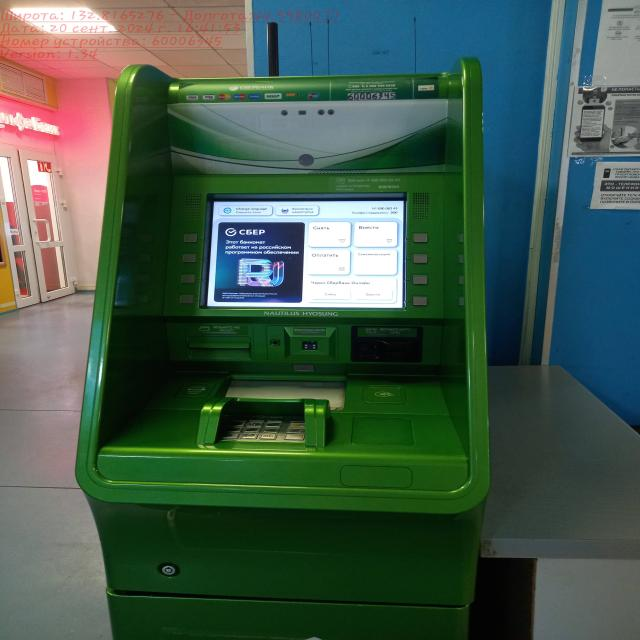bank: (76, 60, 488, 640)
